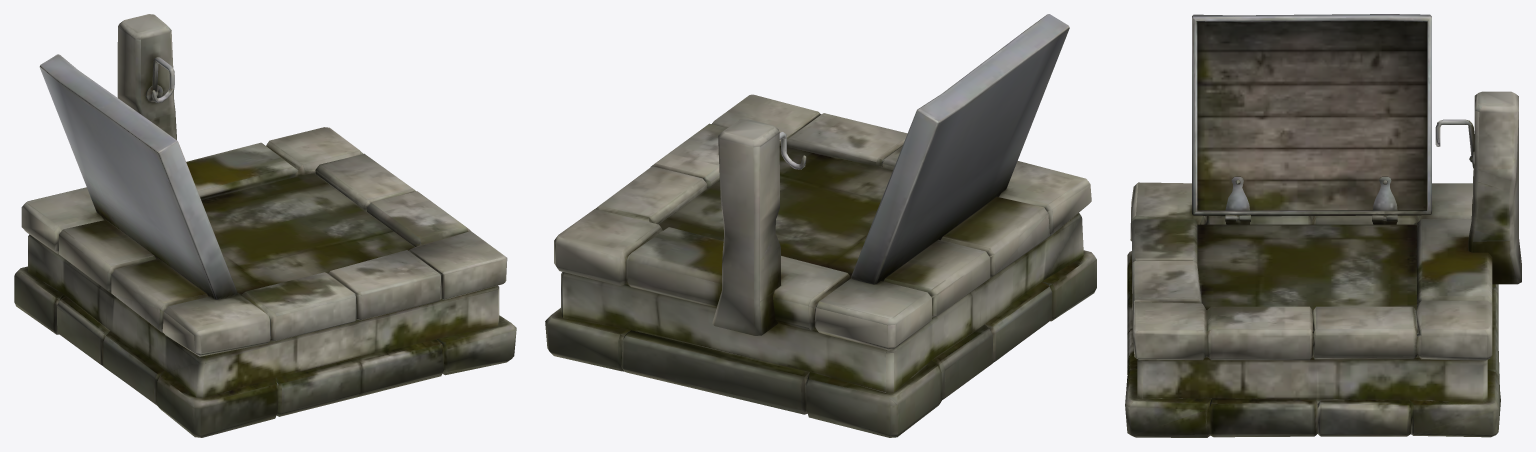
Rendered from obj_cellar_hatch.glb.
3 views of the same model, side by side, from view 1: azimuth 30°, elevation 25°; view 2: azimuth 150°, elevation 25°; view 3: azimuth 270°, elevation 25° (orthographic). The views are drawn at different scales.
Visible parts, largest first — view 1: model; view 2: model; view 3: model.
Boxes of the visible parts, x1,y1,x2,y2 form: model: [14, 14, 516, 437]; model: [545, 14, 1096, 437]; model: [1125, 14, 1521, 437].
Bounding box in the file's own units: 1.26 × 1 × 1.32.
Materials: 1 (1 with a texture image).
